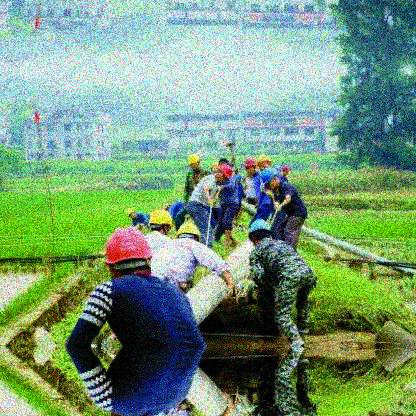helmet: (102, 224, 154, 277), (150, 208, 173, 235), (248, 217, 272, 242), (261, 166, 279, 190), (216, 165, 233, 185), (244, 157, 256, 175), (188, 154, 200, 170), (127, 207, 138, 218)
